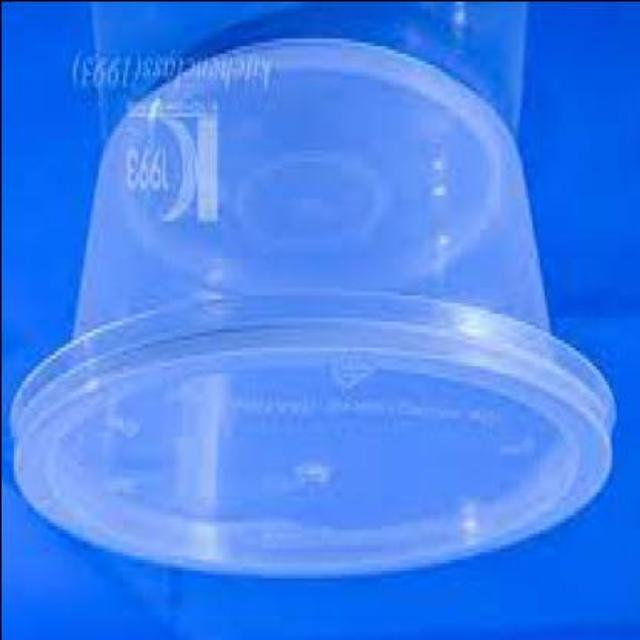plastic_box: (9, 41, 615, 576)
